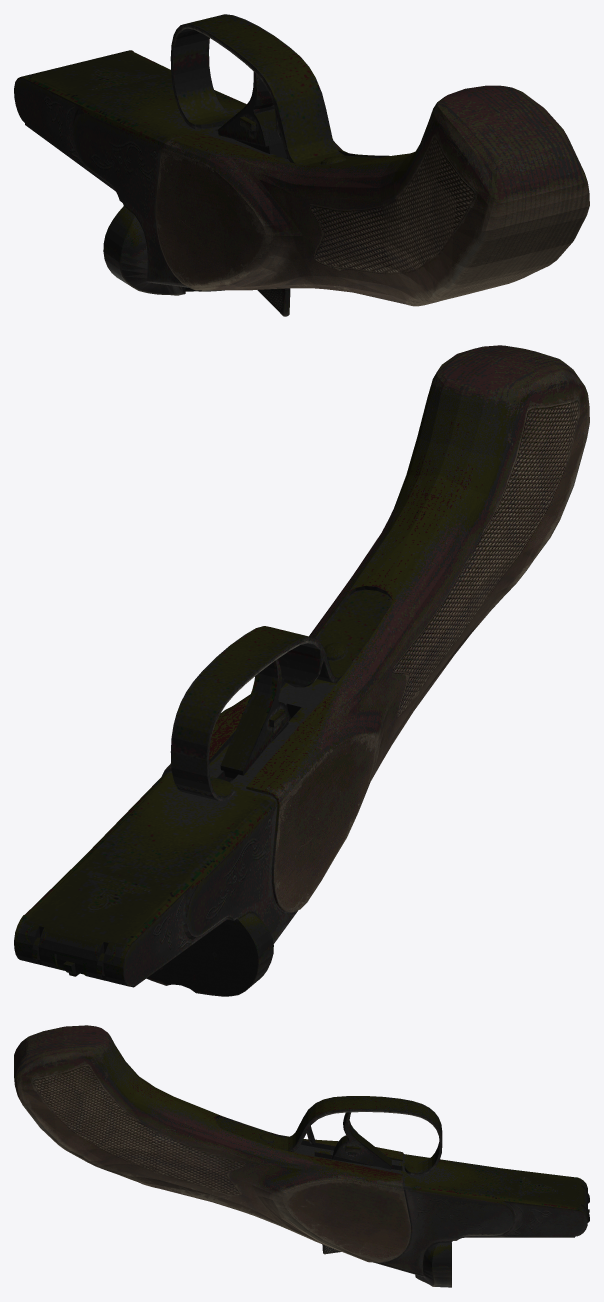
3 renders of one model, top to bottom at view 1: azimuth 30°, elevation 25°; view 2: azimuth 150°, elevation 25°; view 3: azimuth 270°, elevation 25°, orthographic. The views are drawn at different scales.
Parts seen in each view (by area): view 1: TW_64748cb8de82c85eaf0a273a_PZ_Import; view 2: TW_64748cb8de82c85eaf0a273a_PZ_Import; view 3: TW_64748cb8de82c85eaf0a273a_PZ_Import.
Part boxes in pixels (x1=…): TW_64748cb8de82c85eaf0a273a_PZ_Import: x1=14, y1=14, x2=589, y2=316; TW_64748cb8de82c85eaf0a273a_PZ_Import: x1=14, y1=345, x2=589, y2=996; TW_64748cb8de82c85eaf0a273a_PZ_Import: x1=14, y1=1025, x2=589, y2=1287.
Size of the model in its own units: 0.033 by 0.175 by 0.081.
1 material, 1 textured.
